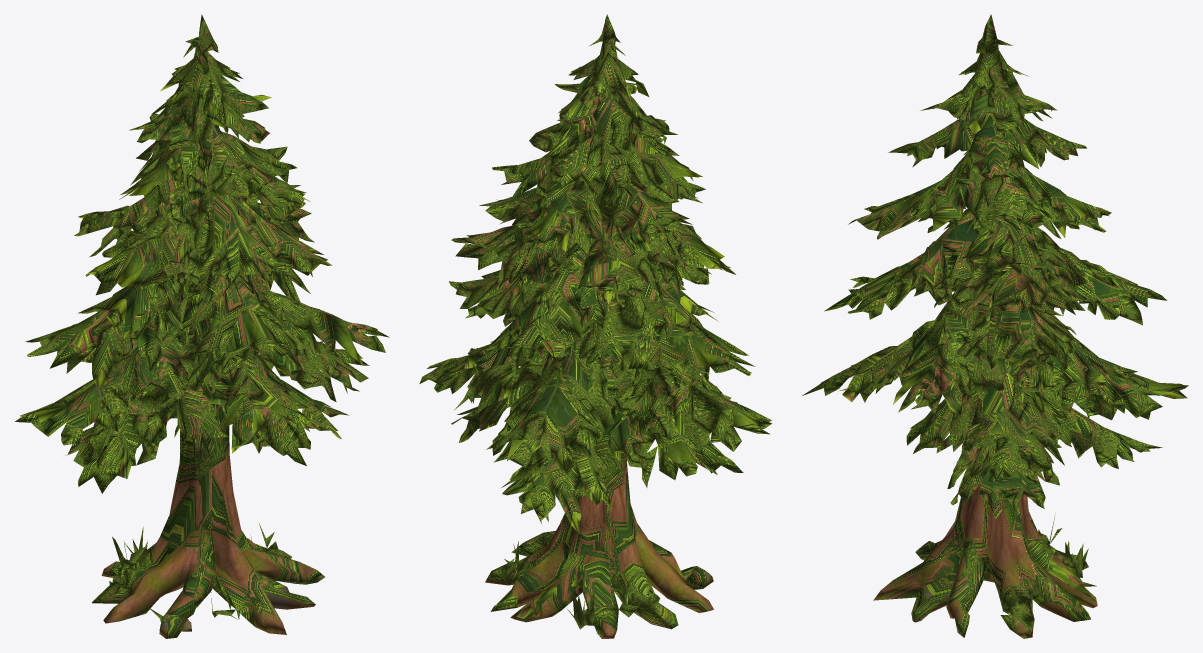
Rendered from evergreen_lod1.glb.
3 views of the same model, side by side, from view 1: azimuth 30°, elevation 25°; view 2: azimuth 150°, elevation 25°; view 3: azimuth 270°, elevation 25° (orthographic).
Bounding box in the file's own units: 3.71 × 5.99 × 3.66.
1 material, 1 textured.
